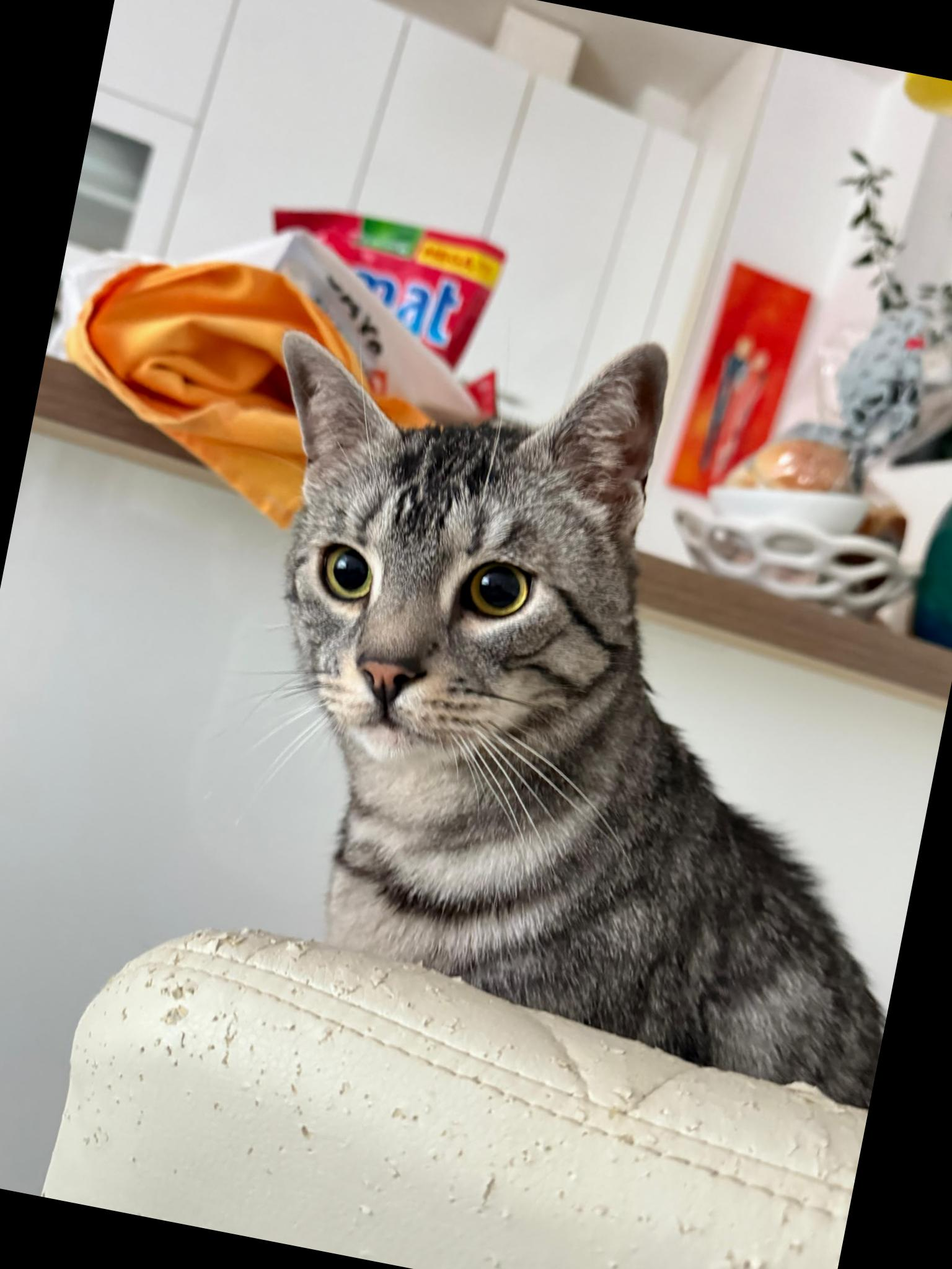macka: (154, 274, 952, 1112)
